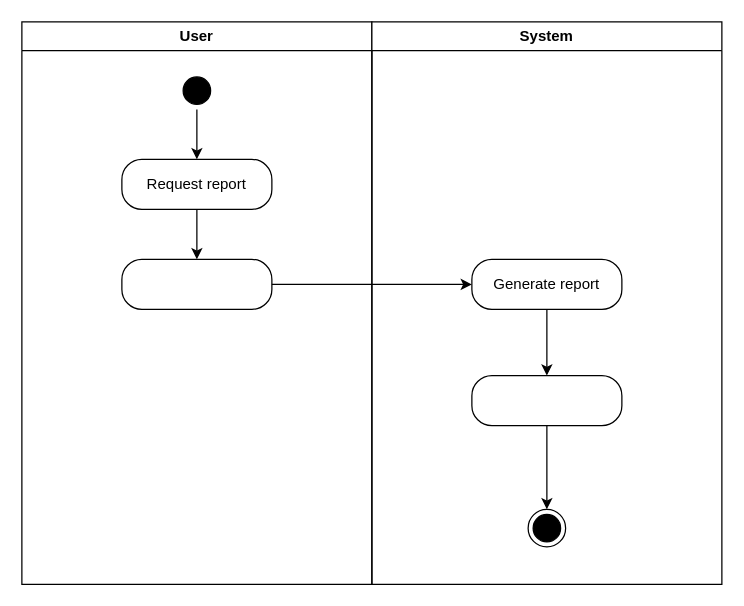
Image size: 744x606. Some labels were removed from this diagram. Each missing label, with the centre of its shape:
"Display report" belongs at (546,400).
"Select portfolio" belongs at (196,283).
